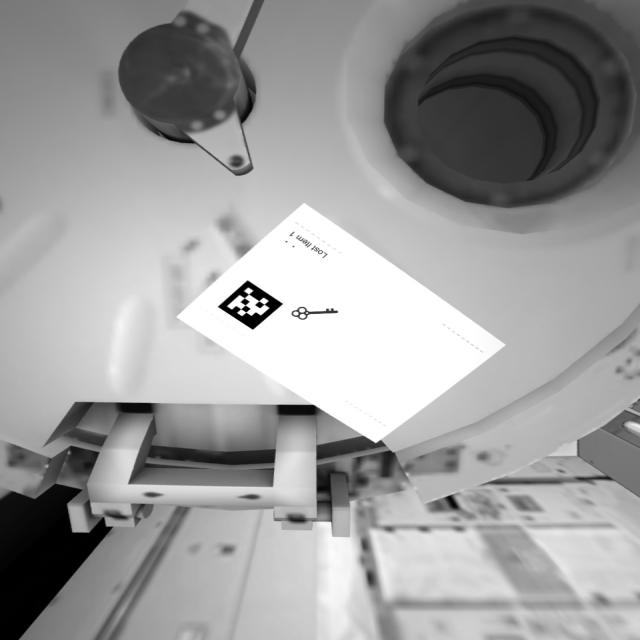key: (280, 299, 347, 324)
